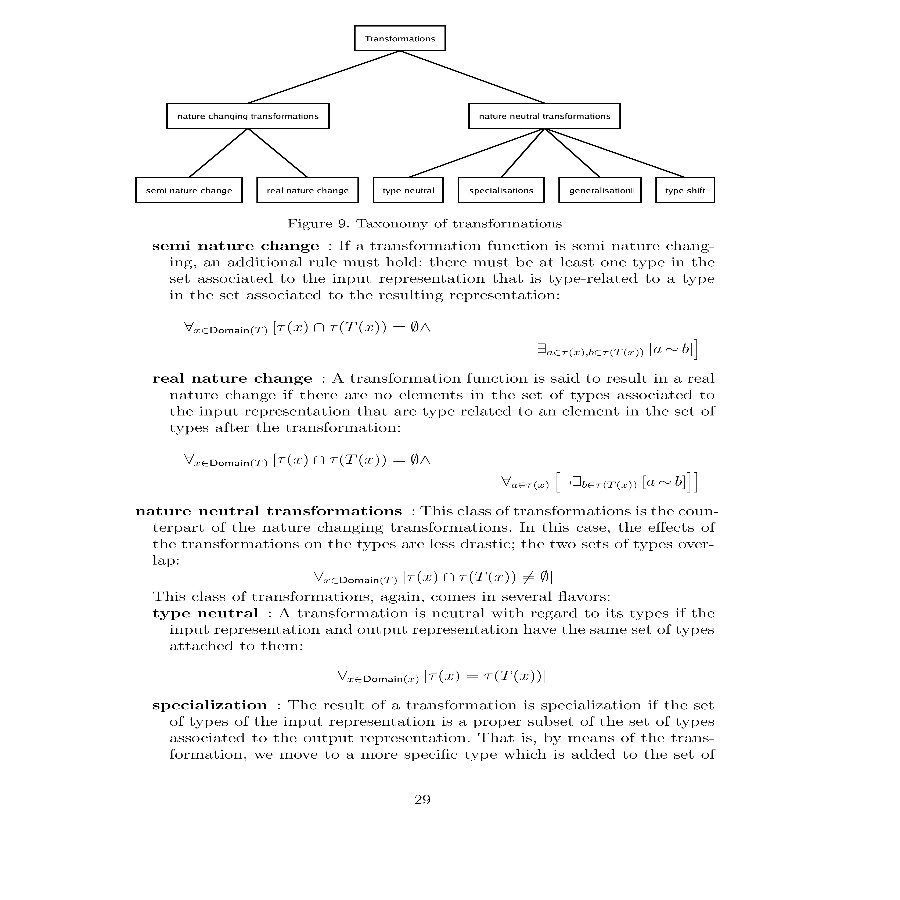eq: (181, 445, 440, 475), (306, 564, 560, 590), (492, 467, 706, 497), (182, 315, 438, 337), (332, 664, 550, 687), (531, 336, 703, 363)
